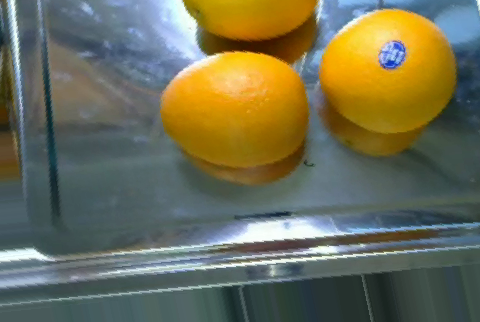Orange: (318, 6, 457, 133), (161, 49, 308, 168)
